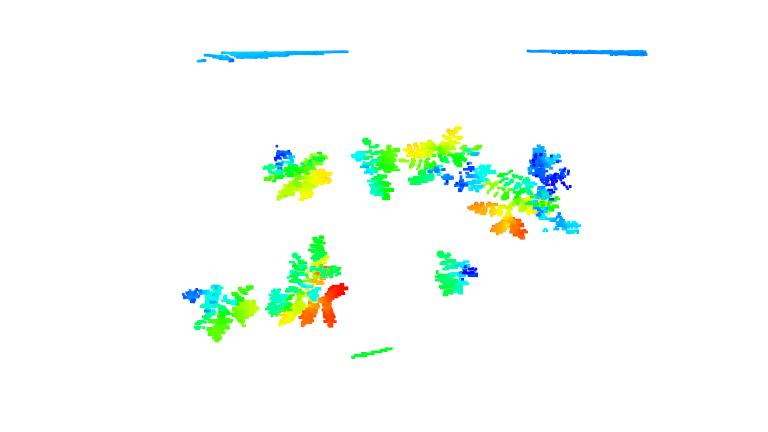chickpea: (264, 234, 351, 330), (479, 144, 557, 239), (526, 140, 592, 235), (403, 125, 493, 193), (183, 281, 259, 344), (260, 145, 338, 205), (354, 136, 405, 202), (428, 246, 480, 300)
